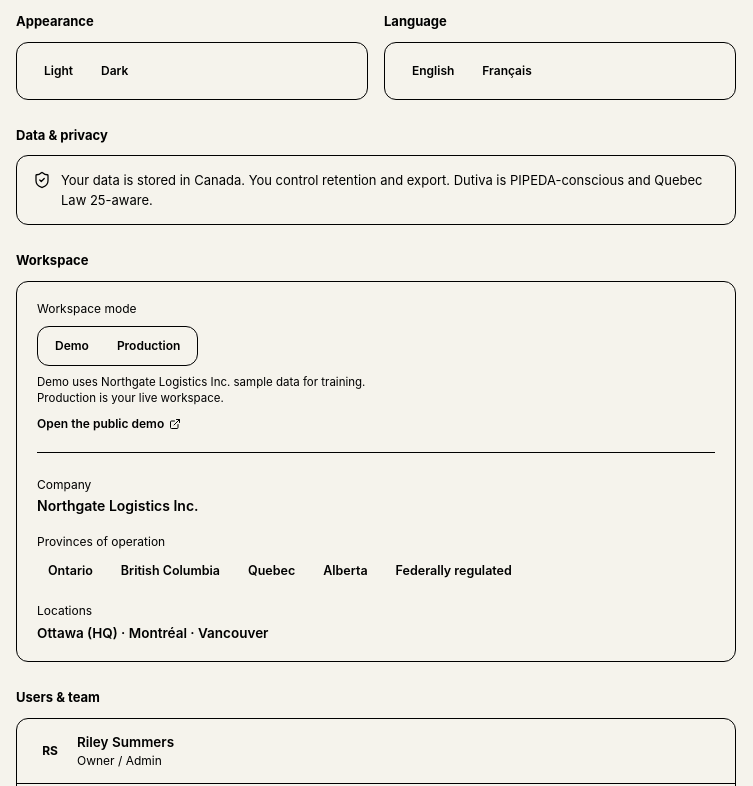
Scenario: SettingsView workspace-mode toggle (admin only) › lets a confirmed admin switch to production and back
Expected: the element named "Workspace mode" is shown, x1=37 y1=326 x2=198 y2=366
Expected: the text "Northgate Logistics Inc." is shown, x1=37 y1=497 x2=198 y2=514
Click the tab "Production": (149, 346) x1=106 y1=332 x2=191 y2=360
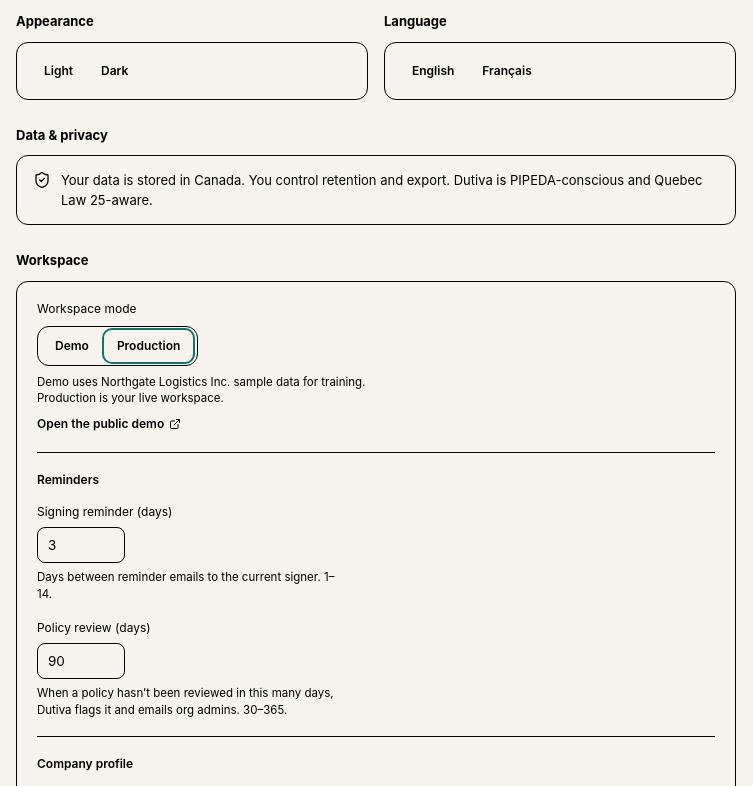
Expected: the text "Ottawa (HQ) · Montréal · Vancouver" is gone
Expected: the text "Riley Summers" is gone
Click the tab "Demo": (72, 346) x1=44 y1=332 x2=100 y2=360
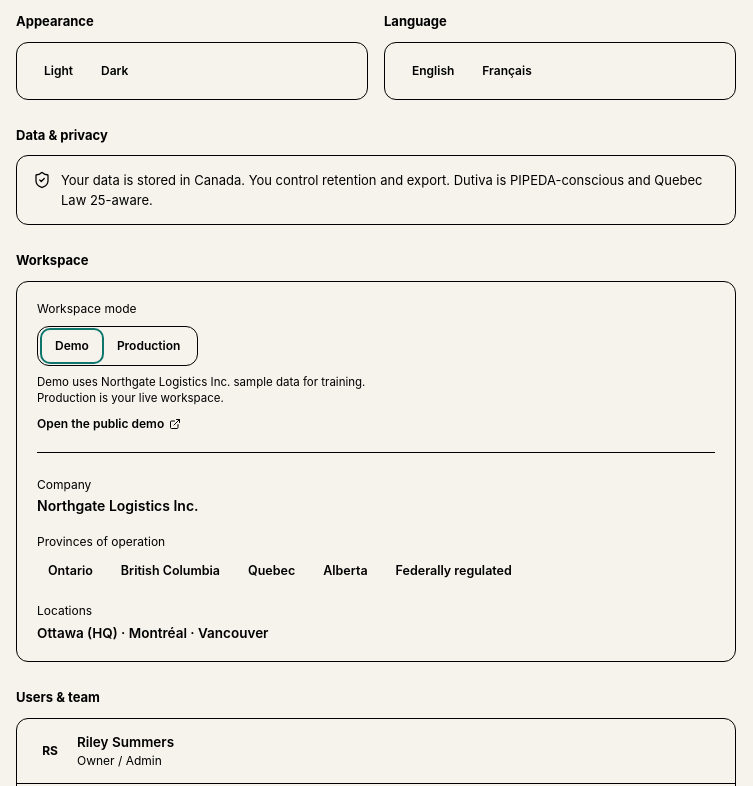
Expected: the text "Northgate Logistics Inc." is shown, x1=37 y1=497 x2=198 y2=514
Expected: the text "Riley Summers" is shown, x1=77 y1=732 x2=174 y2=752
